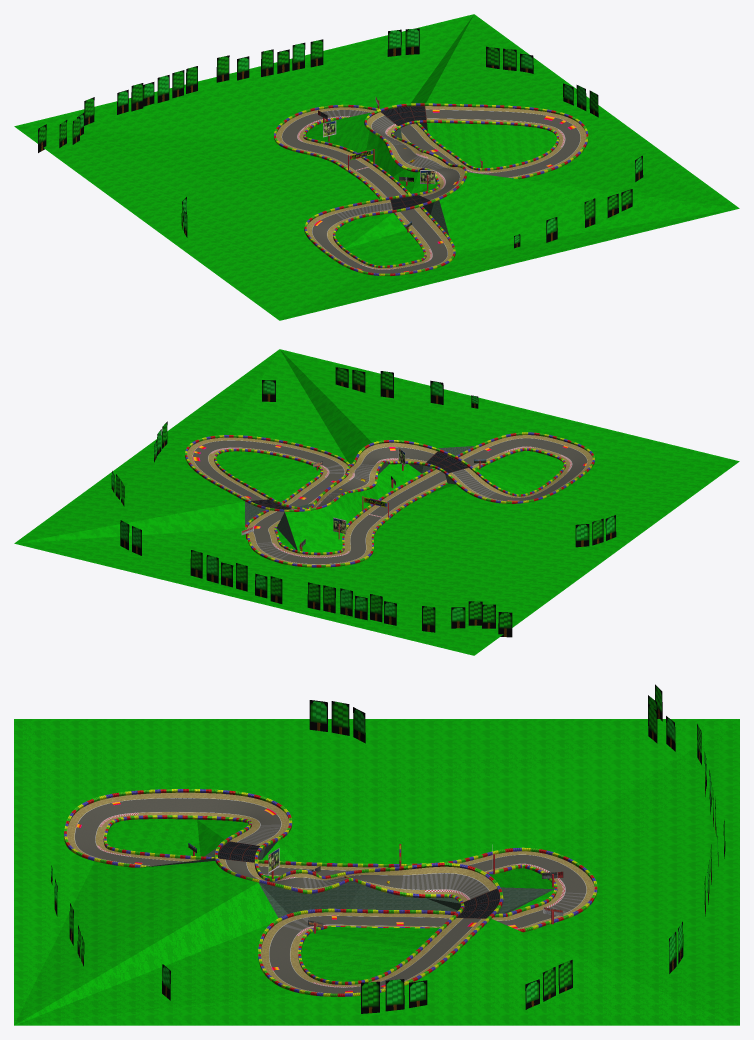
3 renders of one model, top to bottom at view 1: azimuth 30°, elevation 25°; view 2: azimuth 150°, elevation 25°; view 3: azimuth 270°, elevation 25°, orthographic. The views are drawn at different scales.
Parts seen in each view (by area): view 1: a_kusa, b_tree2, a_road, a_suna, a_block, a_blocktop, WT_fence01, a_road_lt, a_line; view 2: a_kusa, b_tree2, a_road, a_suna, a_block, a_blocktop, a_road_lt, iwa, WT_fence01, a_line; view 3: a_kusa, a_road, a_suna, b_tree2, a_block, a_blocktop, iwa, a_road_lt, WT_fence01, a_line.
Boxes of the visible parts, x1=… form: a_kusa: x1=14, y1=14, x2=739, y2=320; b_tree2: x1=38, y1=28, x2=643, y2=248; a_road: x1=281, y1=109, x2=580, y2=273; a_suna: x1=276, y1=106, x2=586, y2=269; a_block: x1=274, y1=104, x2=588, y2=275; a_blocktop: x1=274, y1=103, x2=588, y2=274; WT_fence01: x1=381, y1=106, x2=430, y2=210; a_road_lt: x1=322, y1=110, x2=482, y2=219; a_line: x1=297, y1=100, x2=564, y2=269; a_kusa: x1=14, y1=349, x2=739, y2=655; b_tree2: x1=111, y1=367, x2=616, y2=637; a_road: x1=192, y1=438, x2=587, y2=564; a_suna: x1=187, y1=435, x2=592, y2=564; a_block: x1=185, y1=433, x2=594, y2=567; a_blocktop: x1=185, y1=432, x2=594, y2=565; a_road_lt: x1=256, y1=464, x2=495, y2=559; iwa: x1=245, y1=446, x2=474, y2=550; WT_fence01: x1=250, y1=451, x2=468, y2=509; a_line: x1=211, y1=446, x2=571, y2=557; a_kusa: x1=14, y1=719, x2=739, y2=1025; a_road: x1=74, y1=798, x2=586, y2=993; a_suna: x1=67, y1=792, x2=594, y2=992; b_tree2: x1=51, y1=684, x2=725, y2=1013; a_block: x1=64, y1=790, x2=597, y2=996; a_blocktop: x1=64, y1=789, x2=597, y2=994; iwa: x1=141, y1=841, x2=553, y2=918; a_road_lt: x1=237, y1=824, x2=586, y2=930; WT_fence01: x1=217, y1=841, x2=500, y2=918; a_line: x1=97, y1=813, x2=565, y2=987.
Size of the model in its own units: 70669 by 4911 by 69582.
Materials: 17 (17 with a texture image).
